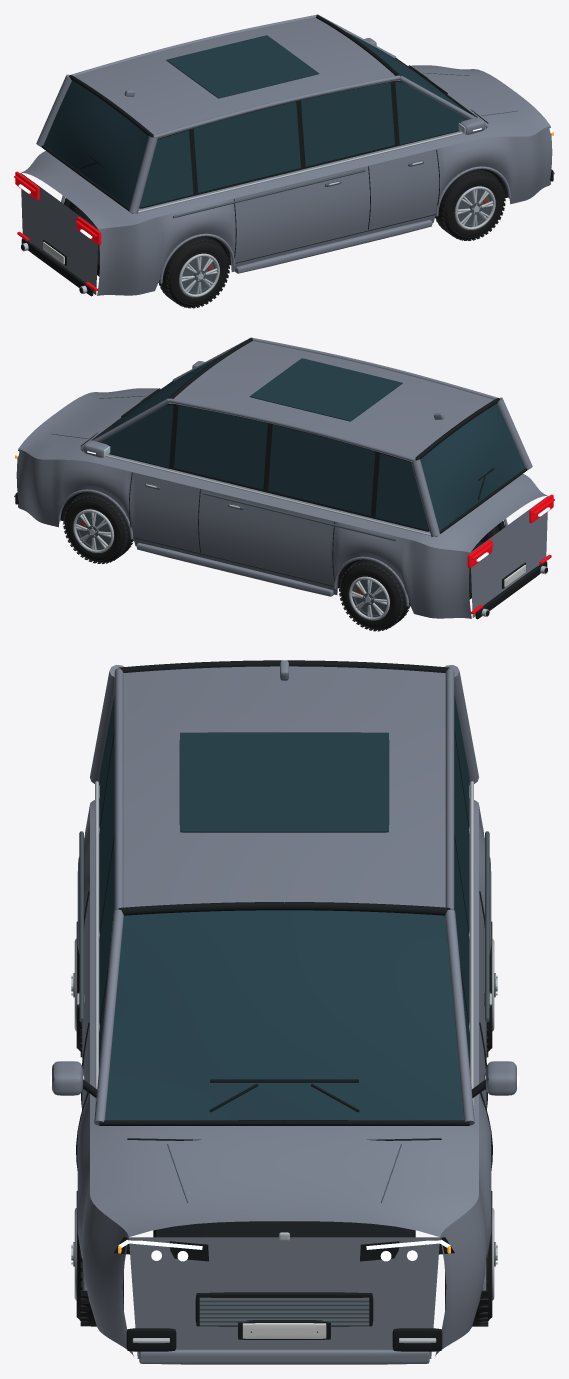
File: minivan.glb
3 renders of one model, top to bottom at view 1: azimuth 30°, elevation 25°; view 2: azimuth 150°, elevation 25°; view 3: azimuth 270°, elevation 25°, orthographic. The views are drawn at different scales.
Visible parts, largest first — view 1: Paint / body colour, Smoked automotive glass, Satin black trim, Tyre rubber, Satin aluminium, Graphite alloy, Tyre tread edges, Rear light lenses, Panel gaps; view 2: Paint / body colour, Smoked automotive glass, Satin black trim, Tyre rubber, Satin aluminium, Graphite alloy, Tyre tread edges, Rear light lenses, Panel gaps; view 3: Paint / body colour, Smoked automotive glass, Satin black trim, Graphite alloy, Satin aluminium, Tyre tread edges, Tyre rubber, Plain number plates, LED daylight, Panel gaps.
Boxes of the visible parts, x1=… form: Paint / body colour: x1=20, y1=14, x2=552, y2=295; Smoked automotive glass: x1=43, y1=33, x2=468, y2=207; Satin black trim: x1=21, y1=15, x2=553, y2=296; Tyre rubber: x1=69, y1=169, x2=503, y2=306; Satin aluminium: x1=21, y1=127, x2=554, y2=297; Graphite alloy: x1=44, y1=73, x2=517, y2=294; Tyre tread edges: x1=73, y1=170, x2=505, y2=308; Rear light lenses: x1=14, y1=171, x2=101, y2=291; Panel gaps: x1=234, y1=65, x2=488, y2=263; Paint / body colour: x1=16, y1=337, x2=548, y2=618; Smoked automotive glass: x1=100, y1=355, x2=524, y2=530; Satin black trim: x1=15, y1=338, x2=547, y2=619; Tyre rubber: x1=65, y1=492, x2=499, y2=629; Satin aluminium: x1=14, y1=450, x2=547, y2=620; Graphite alloy: x1=51, y1=395, x2=524, y2=617; Tyre tread edges: x1=63, y1=493, x2=495, y2=631; Rear light lenses: x1=467, y1=494, x2=554, y2=614; Panel gaps: x1=80, y1=388, x2=334, y2=586; Paint / body colour: x1=52, y1=660, x2=516, y2=1364; Smoked automotive glass: x1=99, y1=694, x2=469, y2=1120; Satin black trim: x1=83, y1=660, x2=485, y2=1351; Graphite alloy: x1=73, y1=831, x2=495, y2=1332; Satin aluminium: x1=71, y1=781, x2=497, y2=1343; Tyre tread edges: x1=76, y1=921, x2=492, y2=1326; Tyre rubber: x1=77, y1=946, x2=491, y2=1326; Plain number plates: x1=242, y1=1323, x2=326, y2=1338; LED daylight: x1=49, y1=1076, x2=519, y2=1261; Panel gaps: x1=76, y1=891, x2=492, y2=1170.
Bounding box in the file's own units: 5.22 × 1.97 × 2.27.
